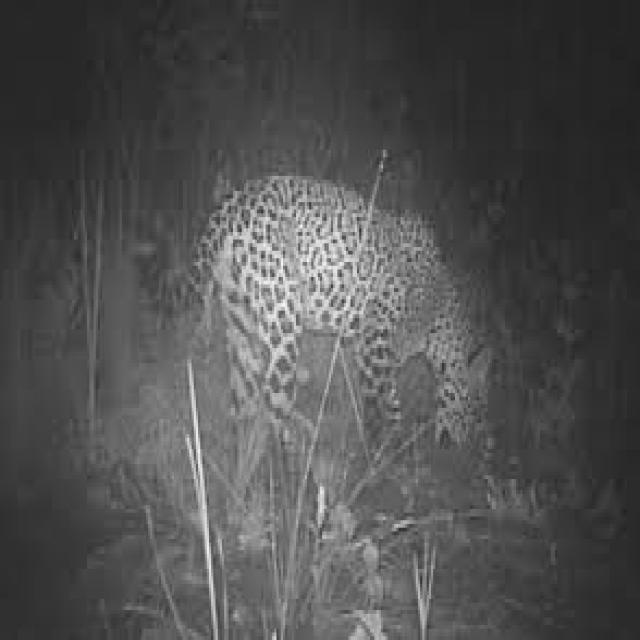Jaguar: (207, 191, 488, 445)
